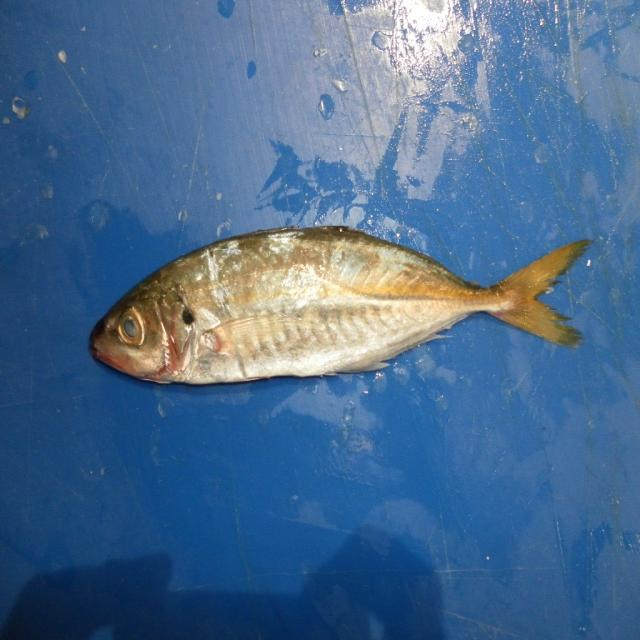Hourse-Mackerel-istavrit-: (88, 226, 592, 388)
